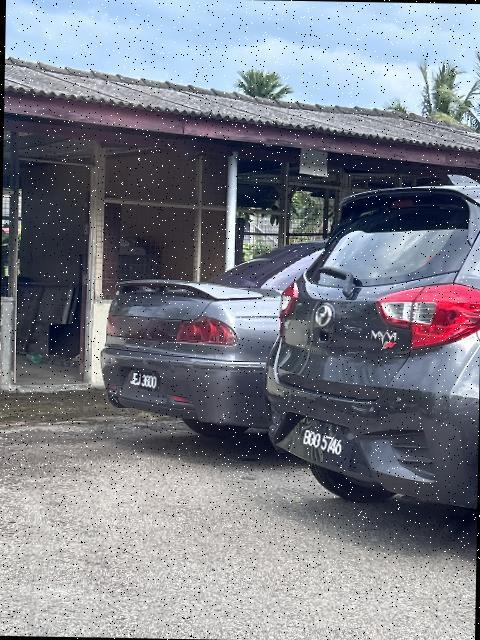JEJ3600: (124, 367, 163, 398)
License_Plate: (290, 425, 356, 463), (124, 367, 163, 398)
car: (263, 176, 480, 518), (91, 231, 385, 448)
